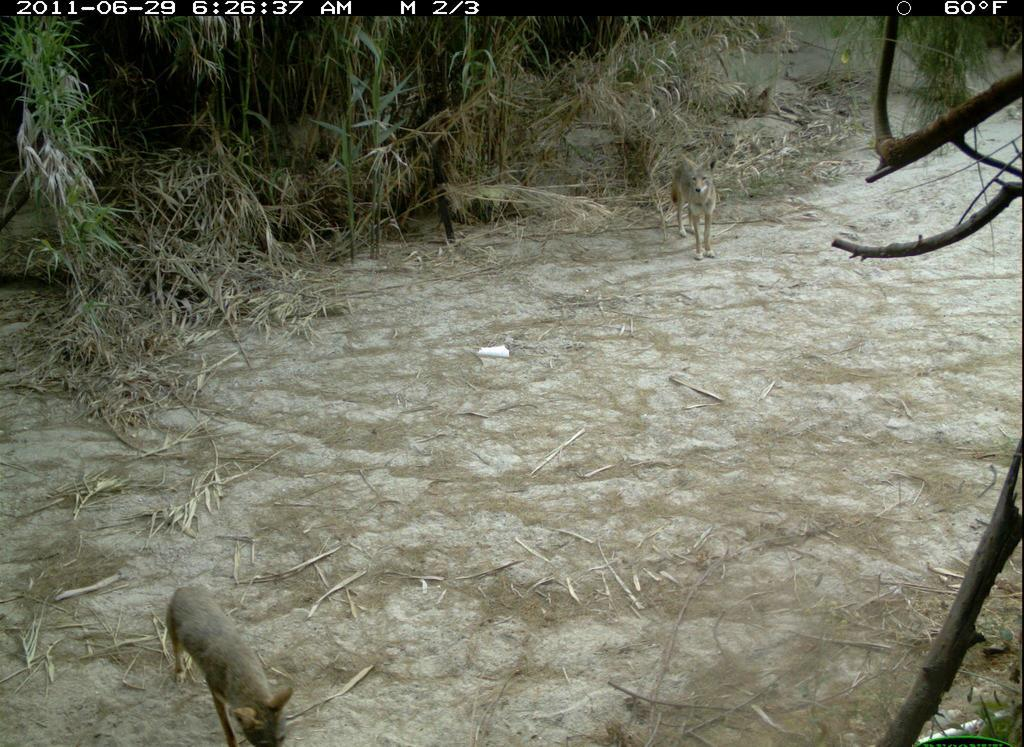coyote: (163, 578, 304, 747), (660, 136, 733, 260)
